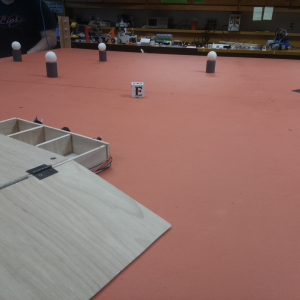blockE: (129, 81, 144, 97)
corner: (57, 16, 70, 48)
obstacle: (44, 51, 57, 79), (205, 50, 218, 75), (9, 40, 23, 61), (97, 42, 109, 62)
slope: (2, 159, 174, 300)
start: (291, 86, 300, 96)
